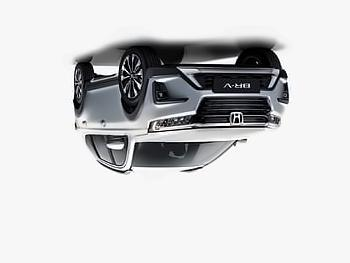Car hood: (133, 127, 272, 145)
Fender - -F-L-: (116, 71, 153, 136)
Front bumper: (144, 64, 298, 111)
Headlight - -L-: (147, 111, 201, 135)
Headlight - -R-: (263, 111, 283, 131)
Passenger-s door - -F-L-: (101, 82, 132, 171)
Passenger-s door - -R-L-: (79, 84, 110, 167)
Rear light - -L-: (69, 116, 81, 132)
Side bumper - -L-: (82, 71, 125, 92)
Side mirror - -L-: (101, 135, 129, 156)
